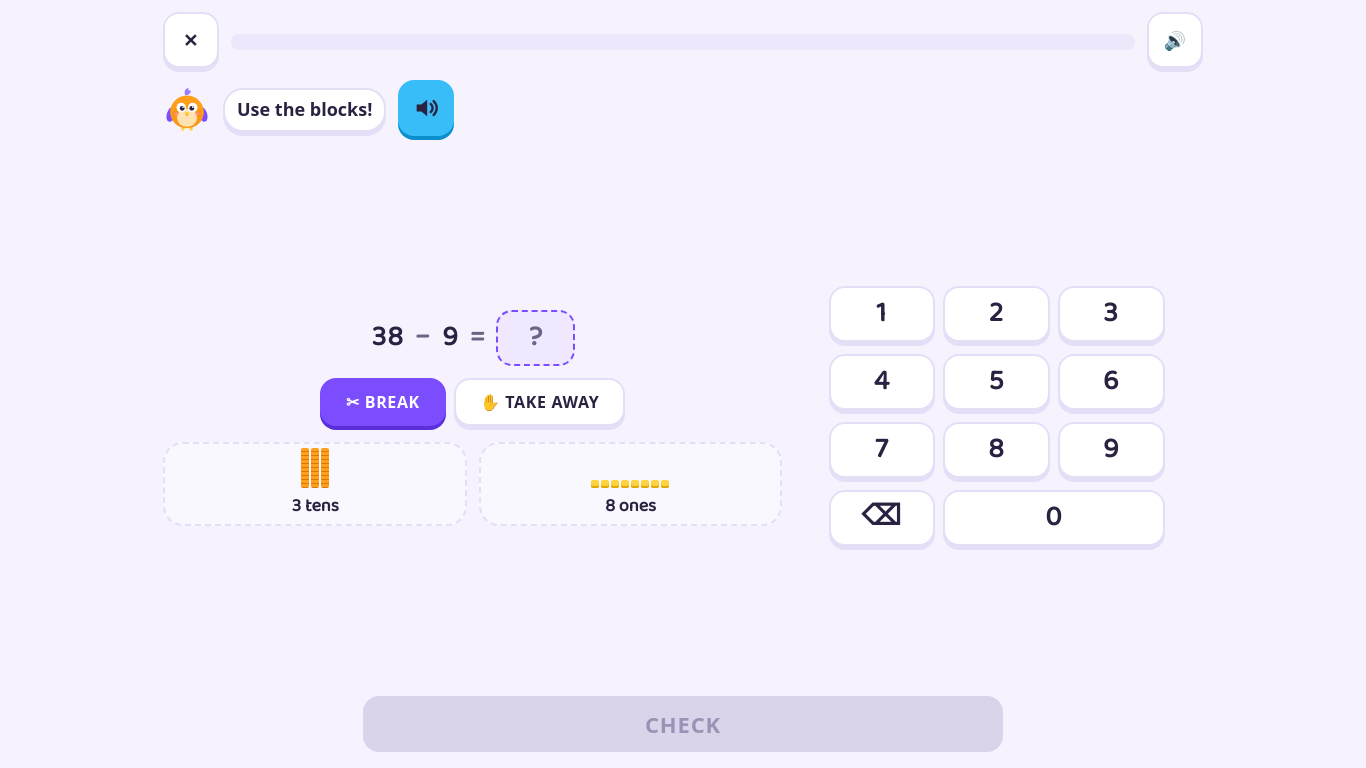
Scenario: LessonScreen: correct flow (AC4) › CHECK is disabled until answered; praise banner; CONTINUE advances progress
Check: the button "Check" is disabled, box [363,696,1003,752]
Click the button "2" at (997, 314), box [943,286,1050,342]
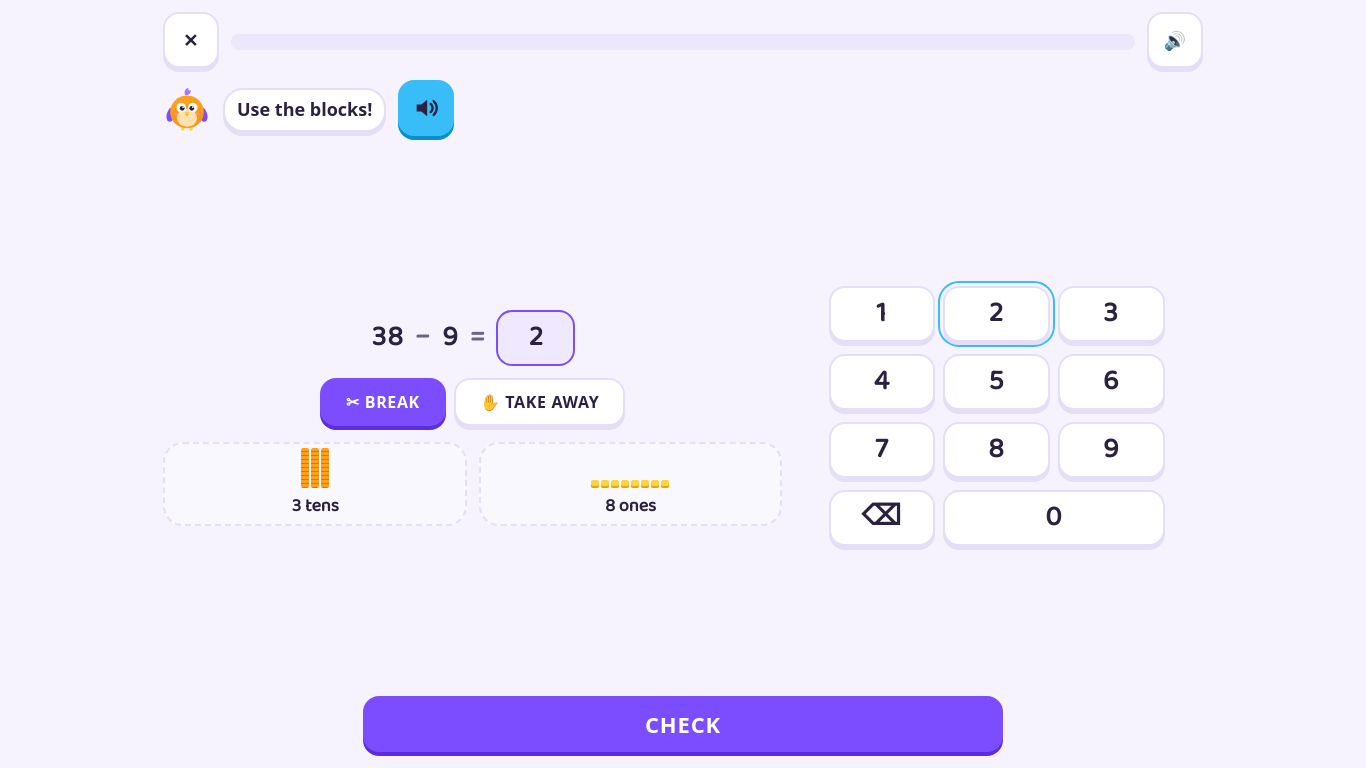
Click the button "9" at (1111, 450), box [1058,422,1165,478]
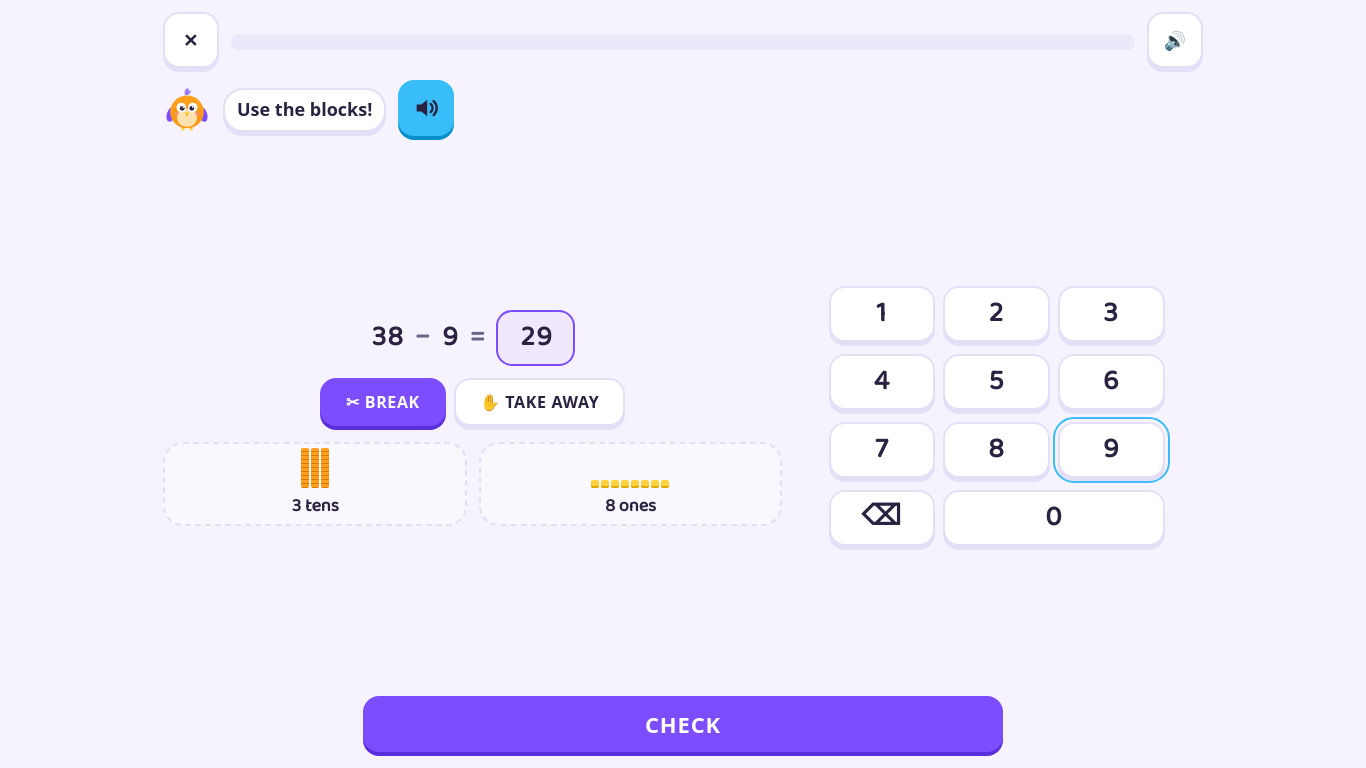
Click the button "Check" at (683, 724), box [363,696,1003,752]
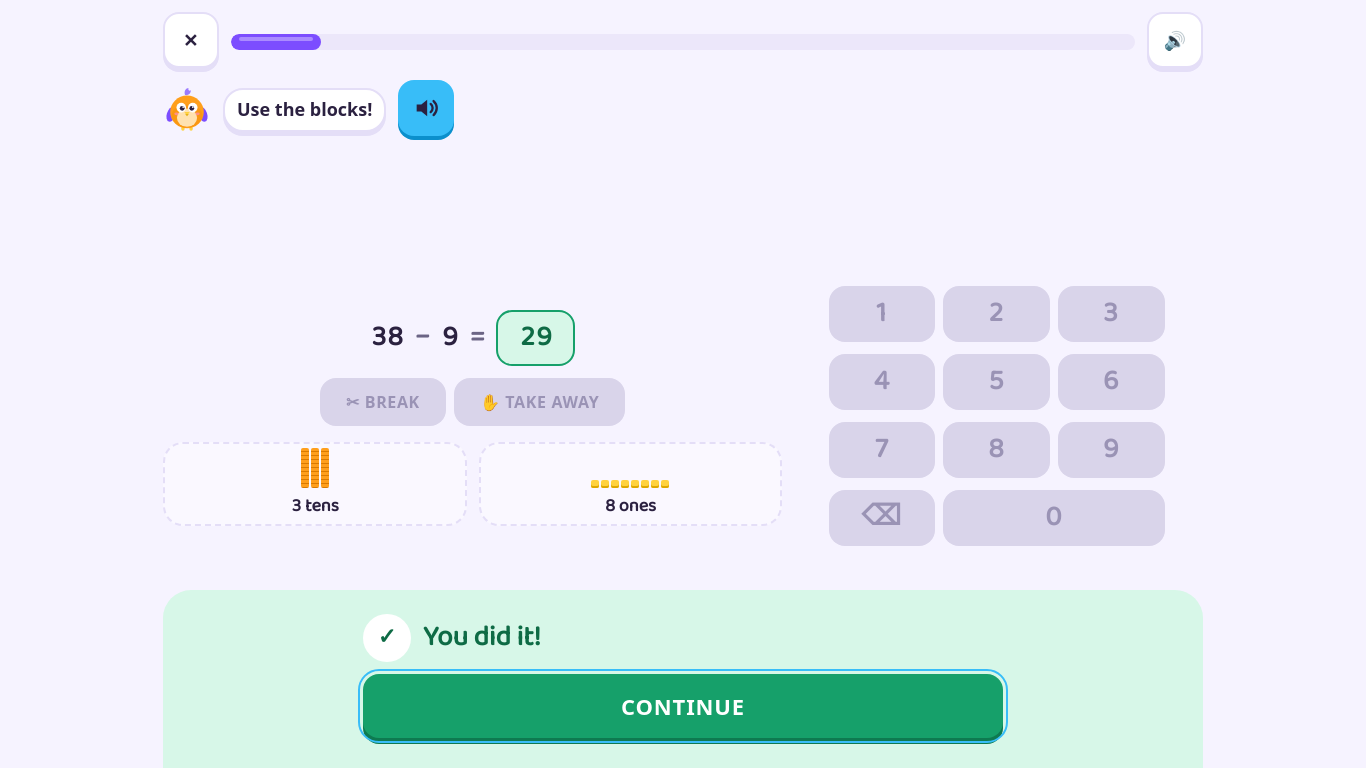
Check: the button "Check" is gone
Click the button "Continue" at (683, 706), box [363,674,1003,738]
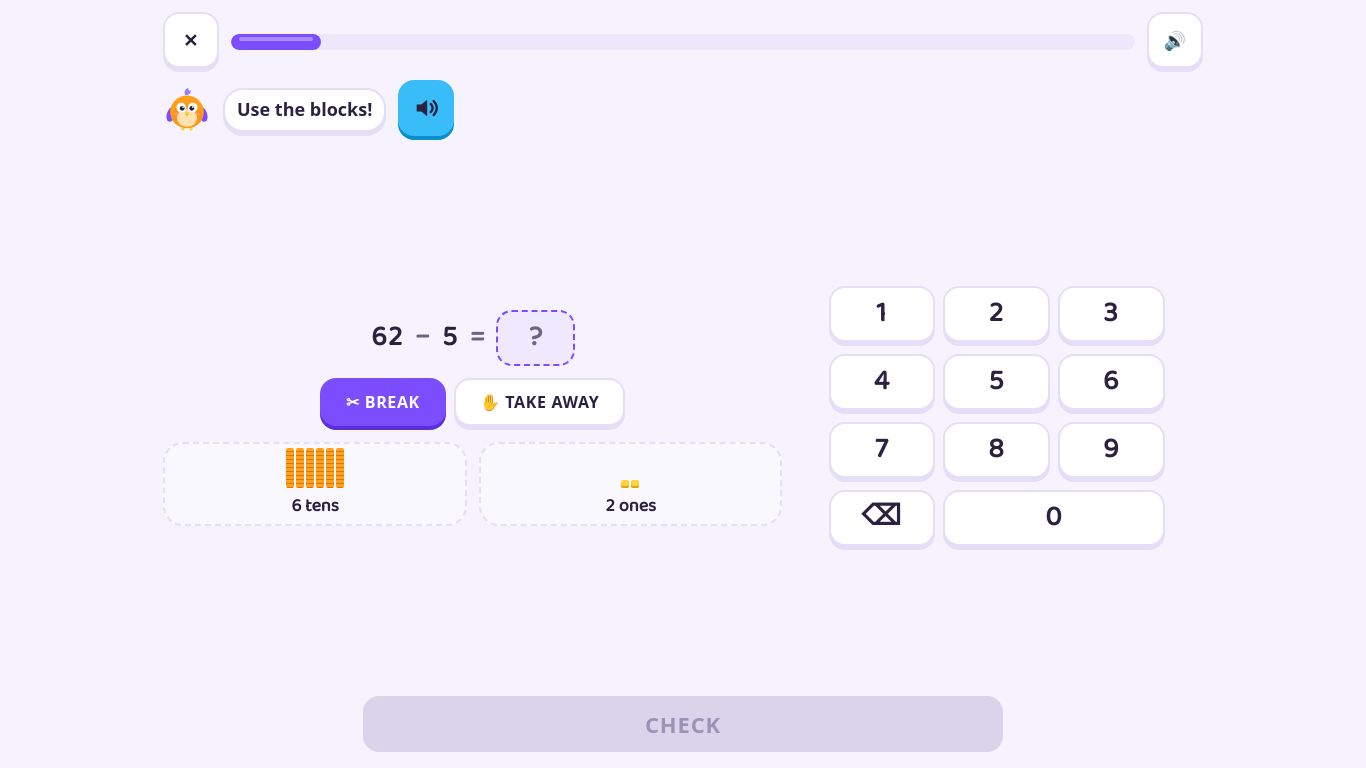
Check: the element with test id "feedback" is gone
